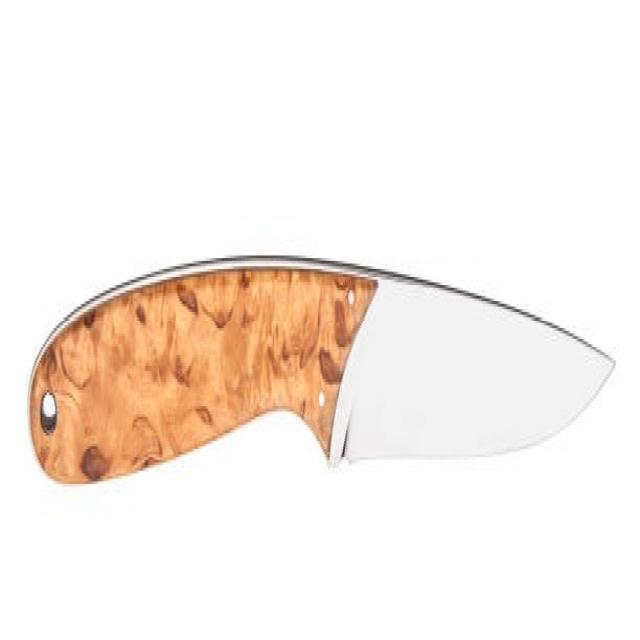knife: (28, 236, 619, 494)
